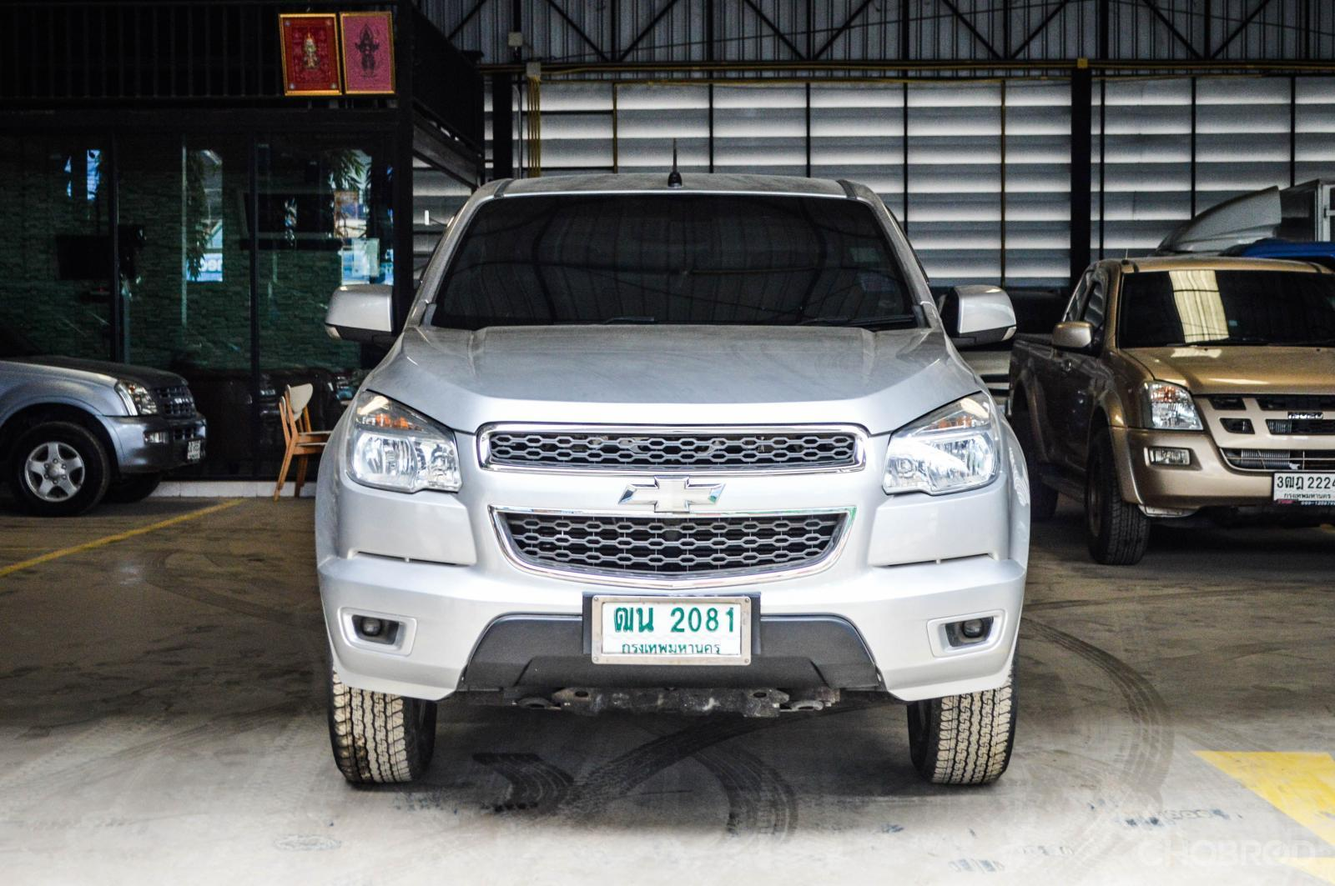license-plate: (588, 594, 755, 668)
